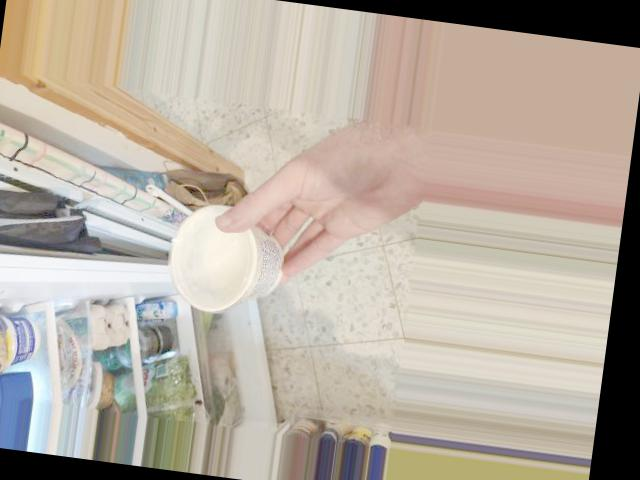cotage: (152, 213, 293, 305)
